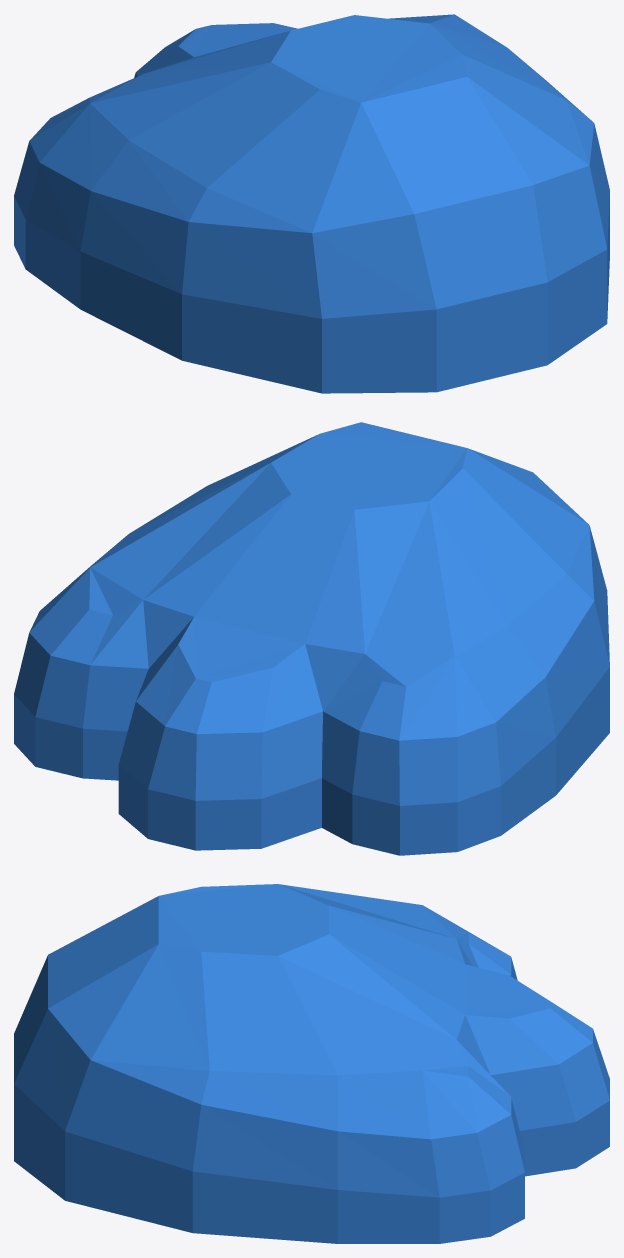
The model's file is foot.FBX.
The picture shows the model from 3 angles, top to bottom: view 1: azimuth 30°, elevation 25°; view 2: azimuth 150°, elevation 25°; view 3: azimuth 270°, elevation 25°; orthographic projection. The views are drawn at different scales.
Parts seen in each view (by area): view 1: VIFS001; view 2: VIFS001; view 3: VIFS001.
Boxes of the visible parts, x1,y1,x2,y2 form: VIFS001: (14, 14, 609, 393); VIFS001: (14, 422, 609, 855); VIFS001: (14, 884, 609, 1243).
Bounding box in the file's own units: 0.6 × 0.281 × 0.7.
